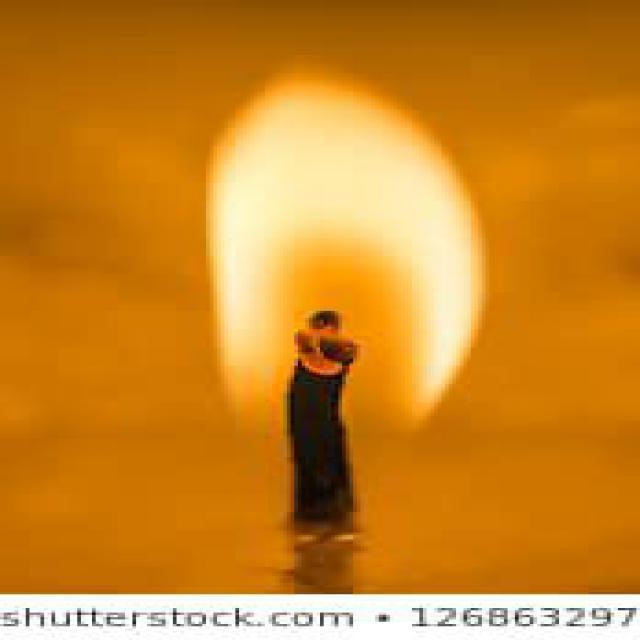Fire: (205, 72, 486, 470)
